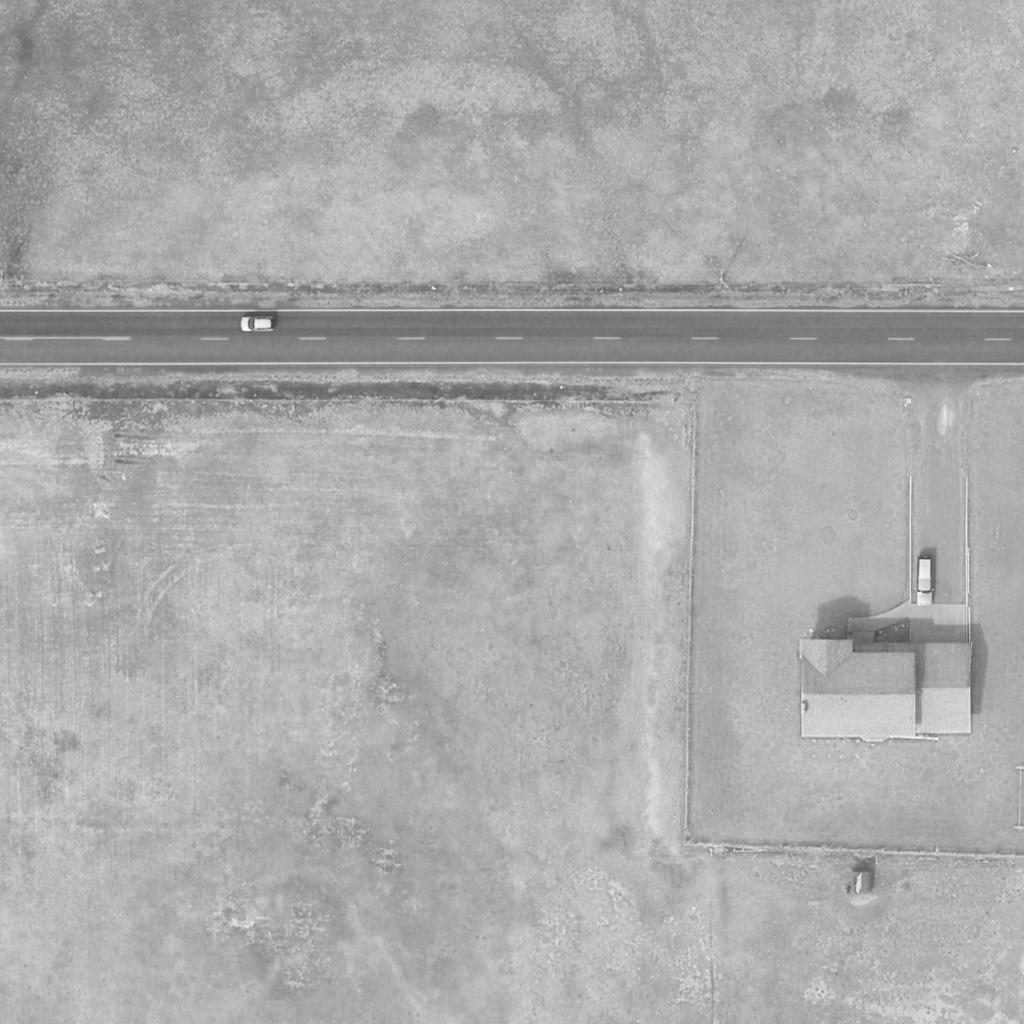vehicle: (915, 555, 937, 607), (239, 315, 277, 333)
